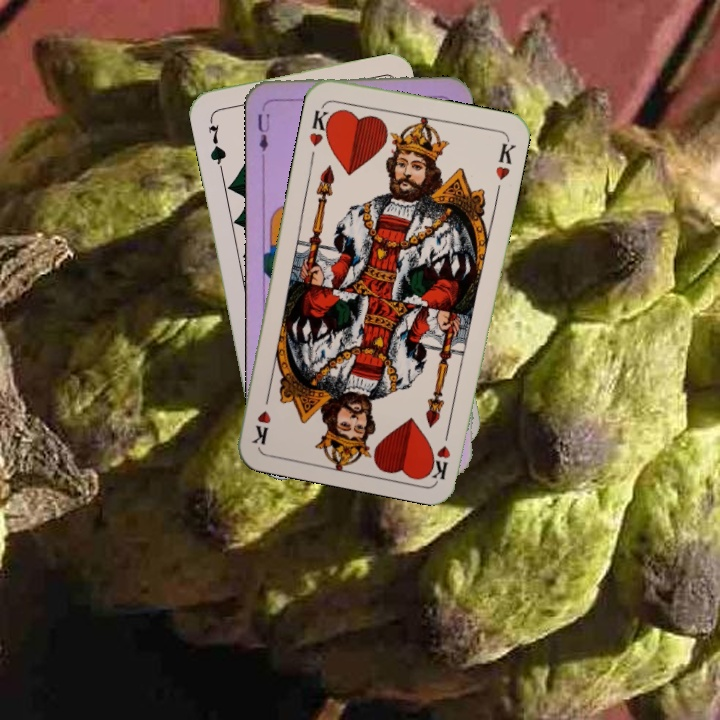EU: (254, 110, 272, 161)
G7: (204, 113, 229, 172)
HK: (427, 421, 453, 481), (305, 101, 336, 149)
